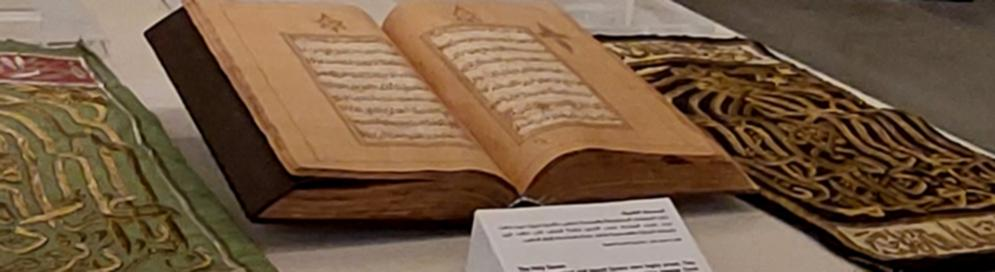The_HolyQuran: (151, 0, 764, 218)
